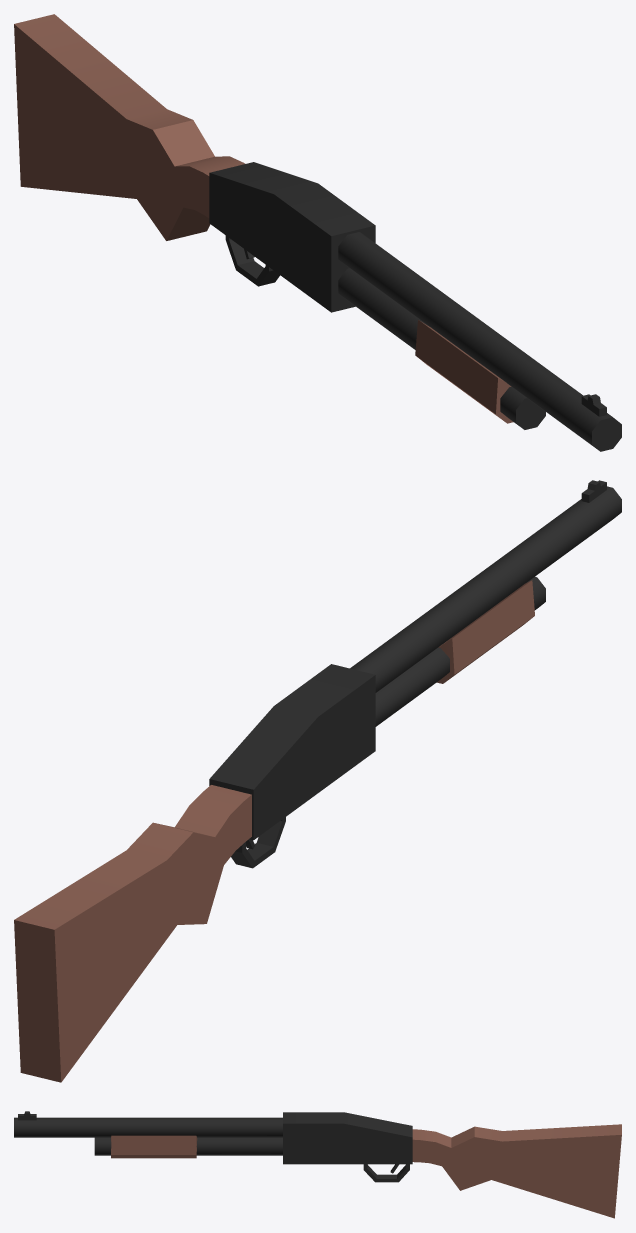
File: pump_action.glb
3 renders of one model, top to bottom at view 1: azimuth 30°, elevation 25°; view 2: azimuth 150°, elevation 25°; view 3: azimuth 270°, elevation 25°, orthographic. The views are drawn at different scales.
Visible parts, largest first — view 1: Pump_Action_Shotgun_Body_24, Pump_Action_Shotgun_Pump_22; view 2: Pump_Action_Shotgun_Body_24, Pump_Action_Shotgun_Pump_22; view 3: Pump_Action_Shotgun_Body_24, Pump_Action_Shotgun_Pump_22.
Part boxes in pixels (x1,y1,x2,y2): Pump_Action_Shotgun_Body_24: (14,14,621,451); Pump_Action_Shotgun_Pump_22: (415,320,513,423); Pump_Action_Shotgun_Body_24: (14,480,621,1082); Pump_Action_Shotgun_Pump_22: (437,580,534,683); Pump_Action_Shotgun_Body_24: (14,1111,621,1218); Pump_Action_Shotgun_Pump_22: (111,1135,197,1158).
Size of the model in its own units: 0.1031 by 0.4233 by 2.31.
